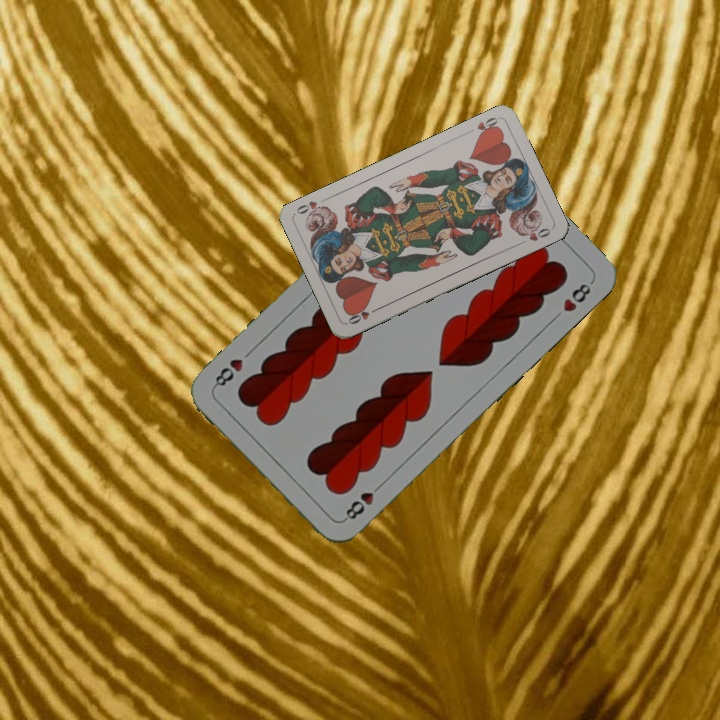H8: (339, 478, 386, 524)
HO: (463, 113, 501, 140), (344, 303, 382, 327)
